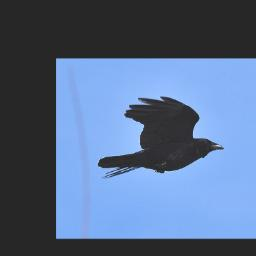Crow: (97, 96, 224, 180)
